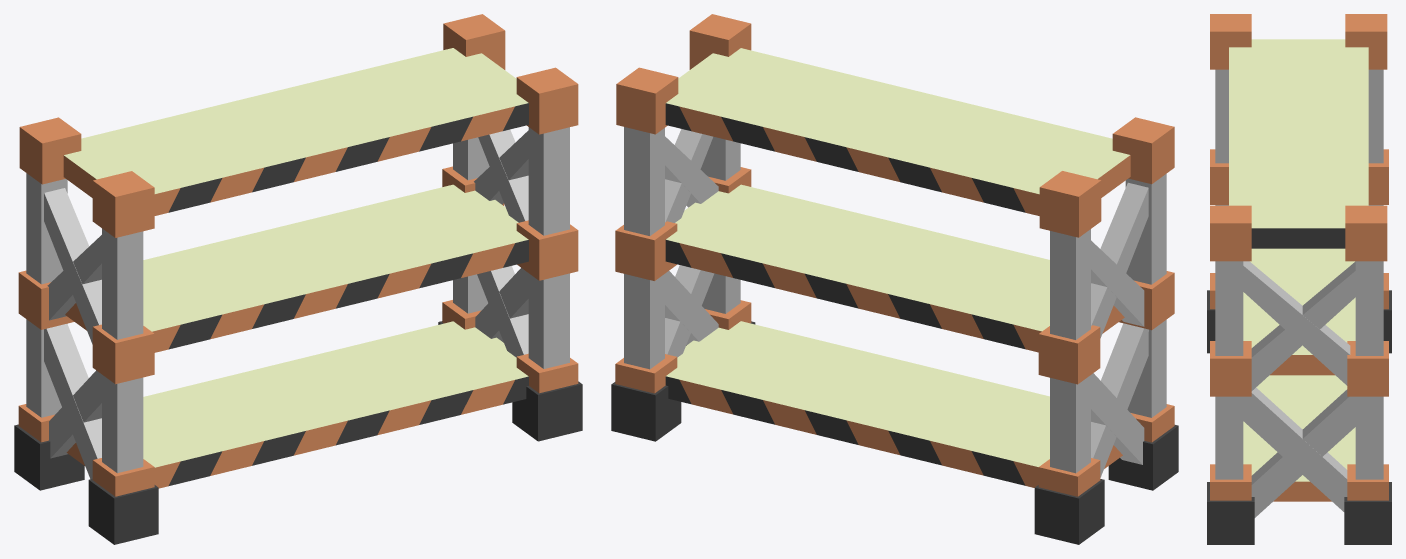
The model's file is Brown_Shelf.fbx.
The picture shows the model from 3 angles, left to right: view 1: azimuth 30°, elevation 25°; view 2: azimuth 150°, elevation 25°; view 3: azimuth 270°, elevation 25°; orthographic projection. The views are drawn at different scales.
Parts seen in each view (by area): view 1: Brown_Shelf; view 2: Brown_Shelf; view 3: Brown_Shelf.
Boxes of the visible parts, bbox=[...] form: Brown_Shelf: bbox=[14, 14, 582, 544]; Brown_Shelf: bbox=[611, 14, 1178, 544]; Brown_Shelf: bbox=[1207, 14, 1391, 544].
Size of the model in its own units: 179 by 127 by 66.16.
